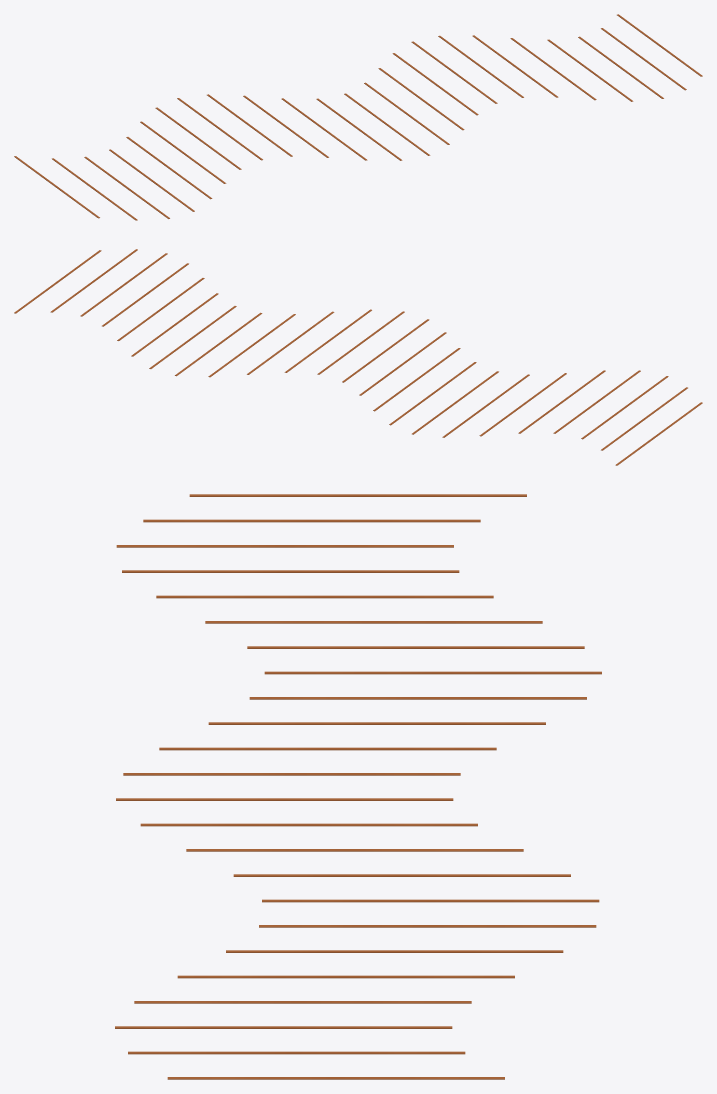
Rendered from 351_L122_TR1_DecorativeCopper.obj.
The picture shows the model from 3 angles, top to bottom: view 1: azimuth 30°, elevation 25°; view 2: azimuth 150°, elevation 25°; view 3: azimuth 270°, elevation 25°; orthographic projection. The views are drawn at different scales.
Visible parts, largest first — view 1: 351_L122_TR1_DecorativeCopper; view 2: 351_L122_TR1_DecorativeCopper; view 3: 351_L122_TR1_DecorativeCopper.
Part boxes in pixels (box(x1,y1,x2,y2)): 351_L122_TR1_DecorativeCopper: box(14, 14, 702, 220); 351_L122_TR1_DecorativeCopper: box(14, 249, 702, 465); 351_L122_TR1_DecorativeCopper: box(115, 494, 601, 1079).
Bounding box in the file's own units: 0.1846 × 0.0001 × 0.065.
Materials: 1 (1 with a texture image).
